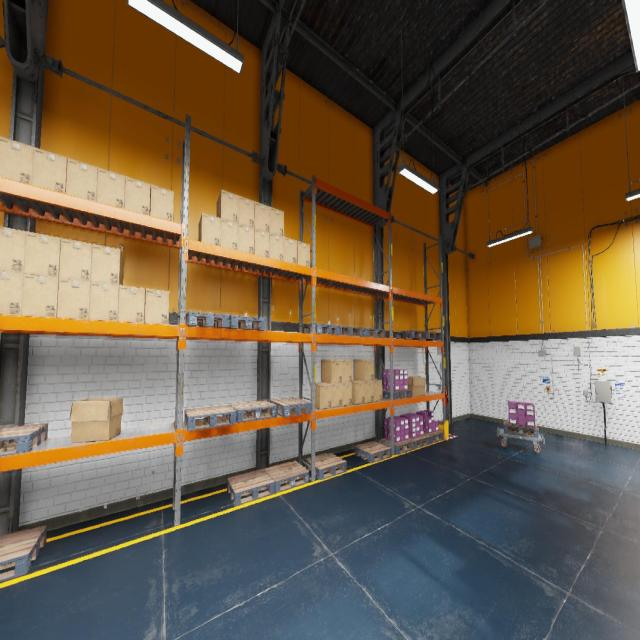box: (69, 398, 123, 442), (24, 231, 61, 277), (21, 274, 59, 318), (32, 147, 67, 193), (0, 136, 33, 184), (59, 238, 92, 281), (90, 244, 124, 285), (66, 158, 98, 201), (57, 278, 90, 319), (0, 226, 26, 274), (89, 282, 119, 321), (96, 168, 125, 208), (124, 176, 151, 215), (0, 270, 23, 315), (118, 285, 145, 323), (150, 184, 174, 221), (145, 288, 169, 324), (198, 213, 221, 246), (216, 190, 238, 222), (310, 382, 332, 409), (220, 219, 238, 250), (238, 196, 255, 228), (321, 360, 342, 383), (254, 202, 270, 232), (238, 224, 254, 254), (254, 229, 270, 257), (354, 359, 373, 381), (356, 380, 374, 403), (270, 207, 284, 236), (270, 233, 284, 261), (408, 376, 426, 396), (284, 237, 297, 264), (297, 240, 310, 266), (352, 380, 365, 404), (332, 383, 342, 408), (342, 382, 352, 406), (342, 360, 352, 382), (374, 379, 382, 401)
pallets: (0, 525, 47, 582), (227, 469, 275, 506), (0, 423, 48, 456), (264, 461, 309, 492), (184, 405, 237, 431), (306, 452, 346, 480), (229, 400, 277, 422), (355, 441, 392, 463), (270, 398, 311, 417), (186, 310, 229, 328), (503, 420, 539, 438), (228, 315, 265, 330), (380, 438, 414, 454), (303, 323, 340, 335), (396, 330, 427, 340), (408, 434, 430, 448), (333, 326, 363, 336), (382, 389, 412, 399), (357, 328, 385, 338), (424, 430, 444, 443), (414, 332, 441, 340)
